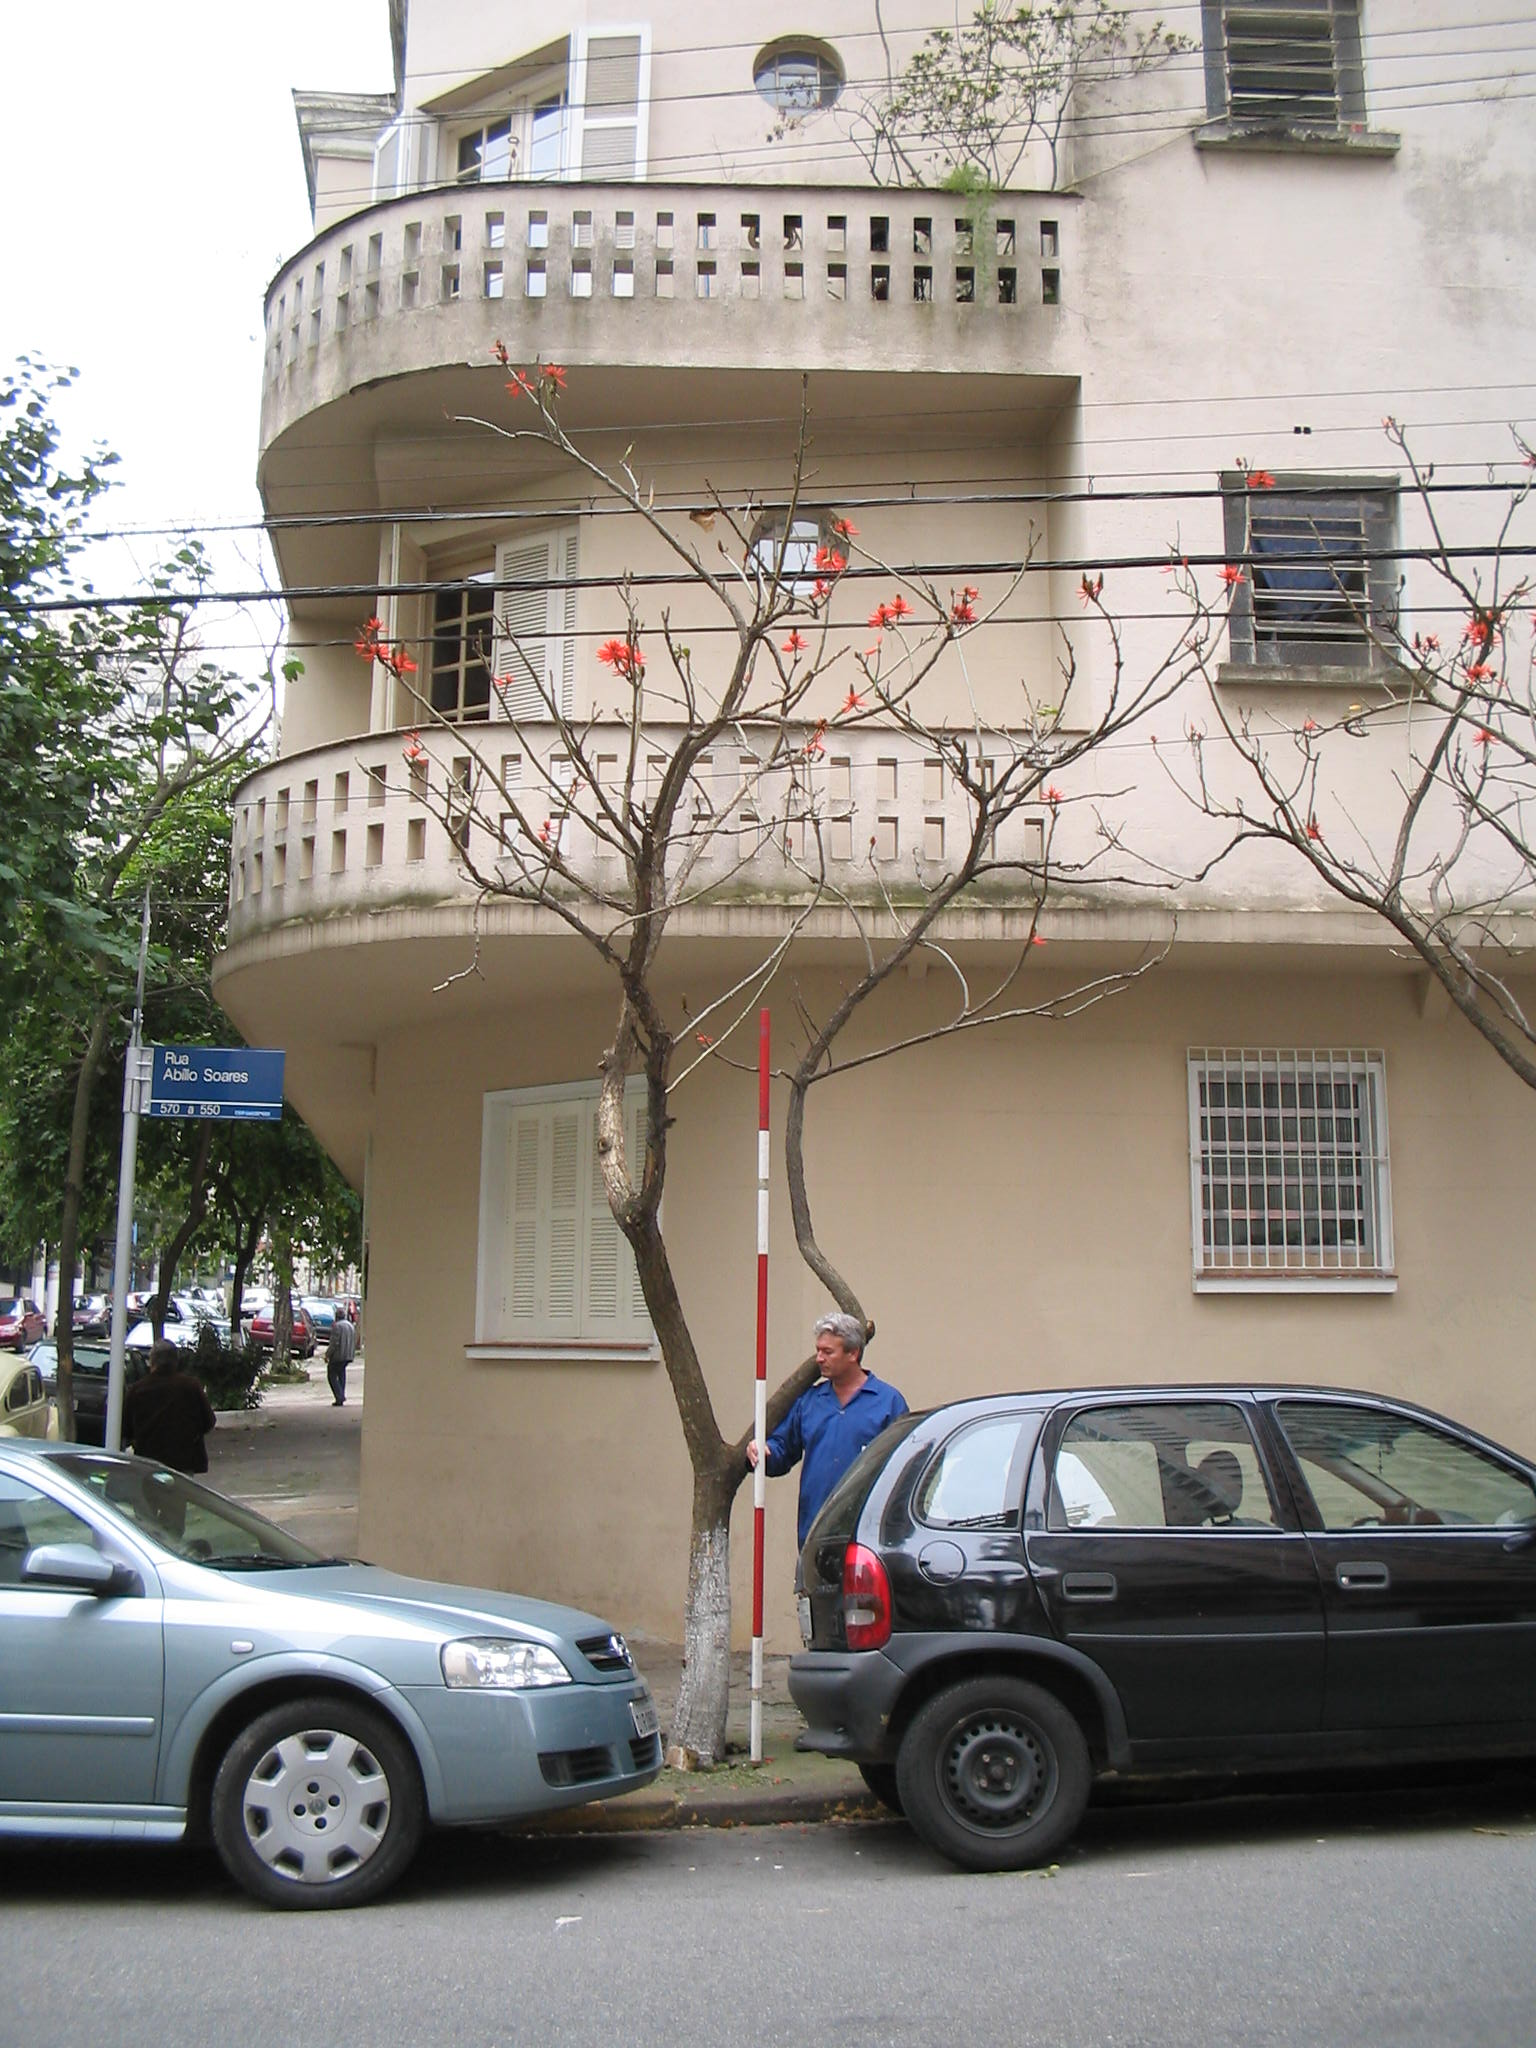stem: (658, 1479, 750, 1767)
stick: (733, 1011, 787, 1763)
tree: (336, 345, 1276, 1775)
